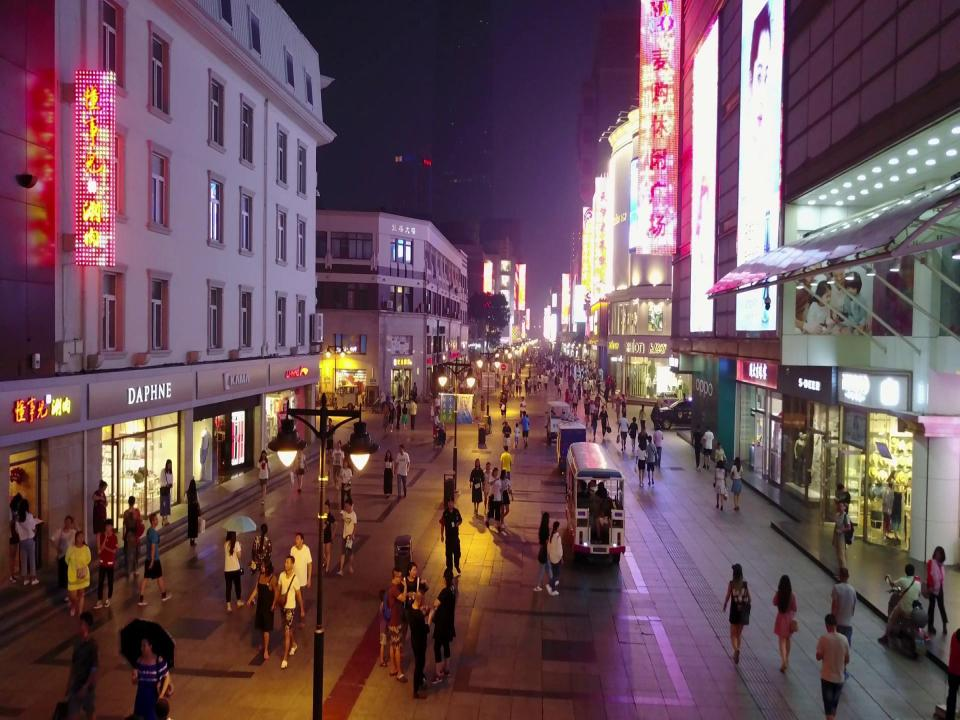car: (652, 398, 712, 435), (91, 479, 109, 557), (656, 388, 680, 413)
van: (563, 443, 629, 562)
